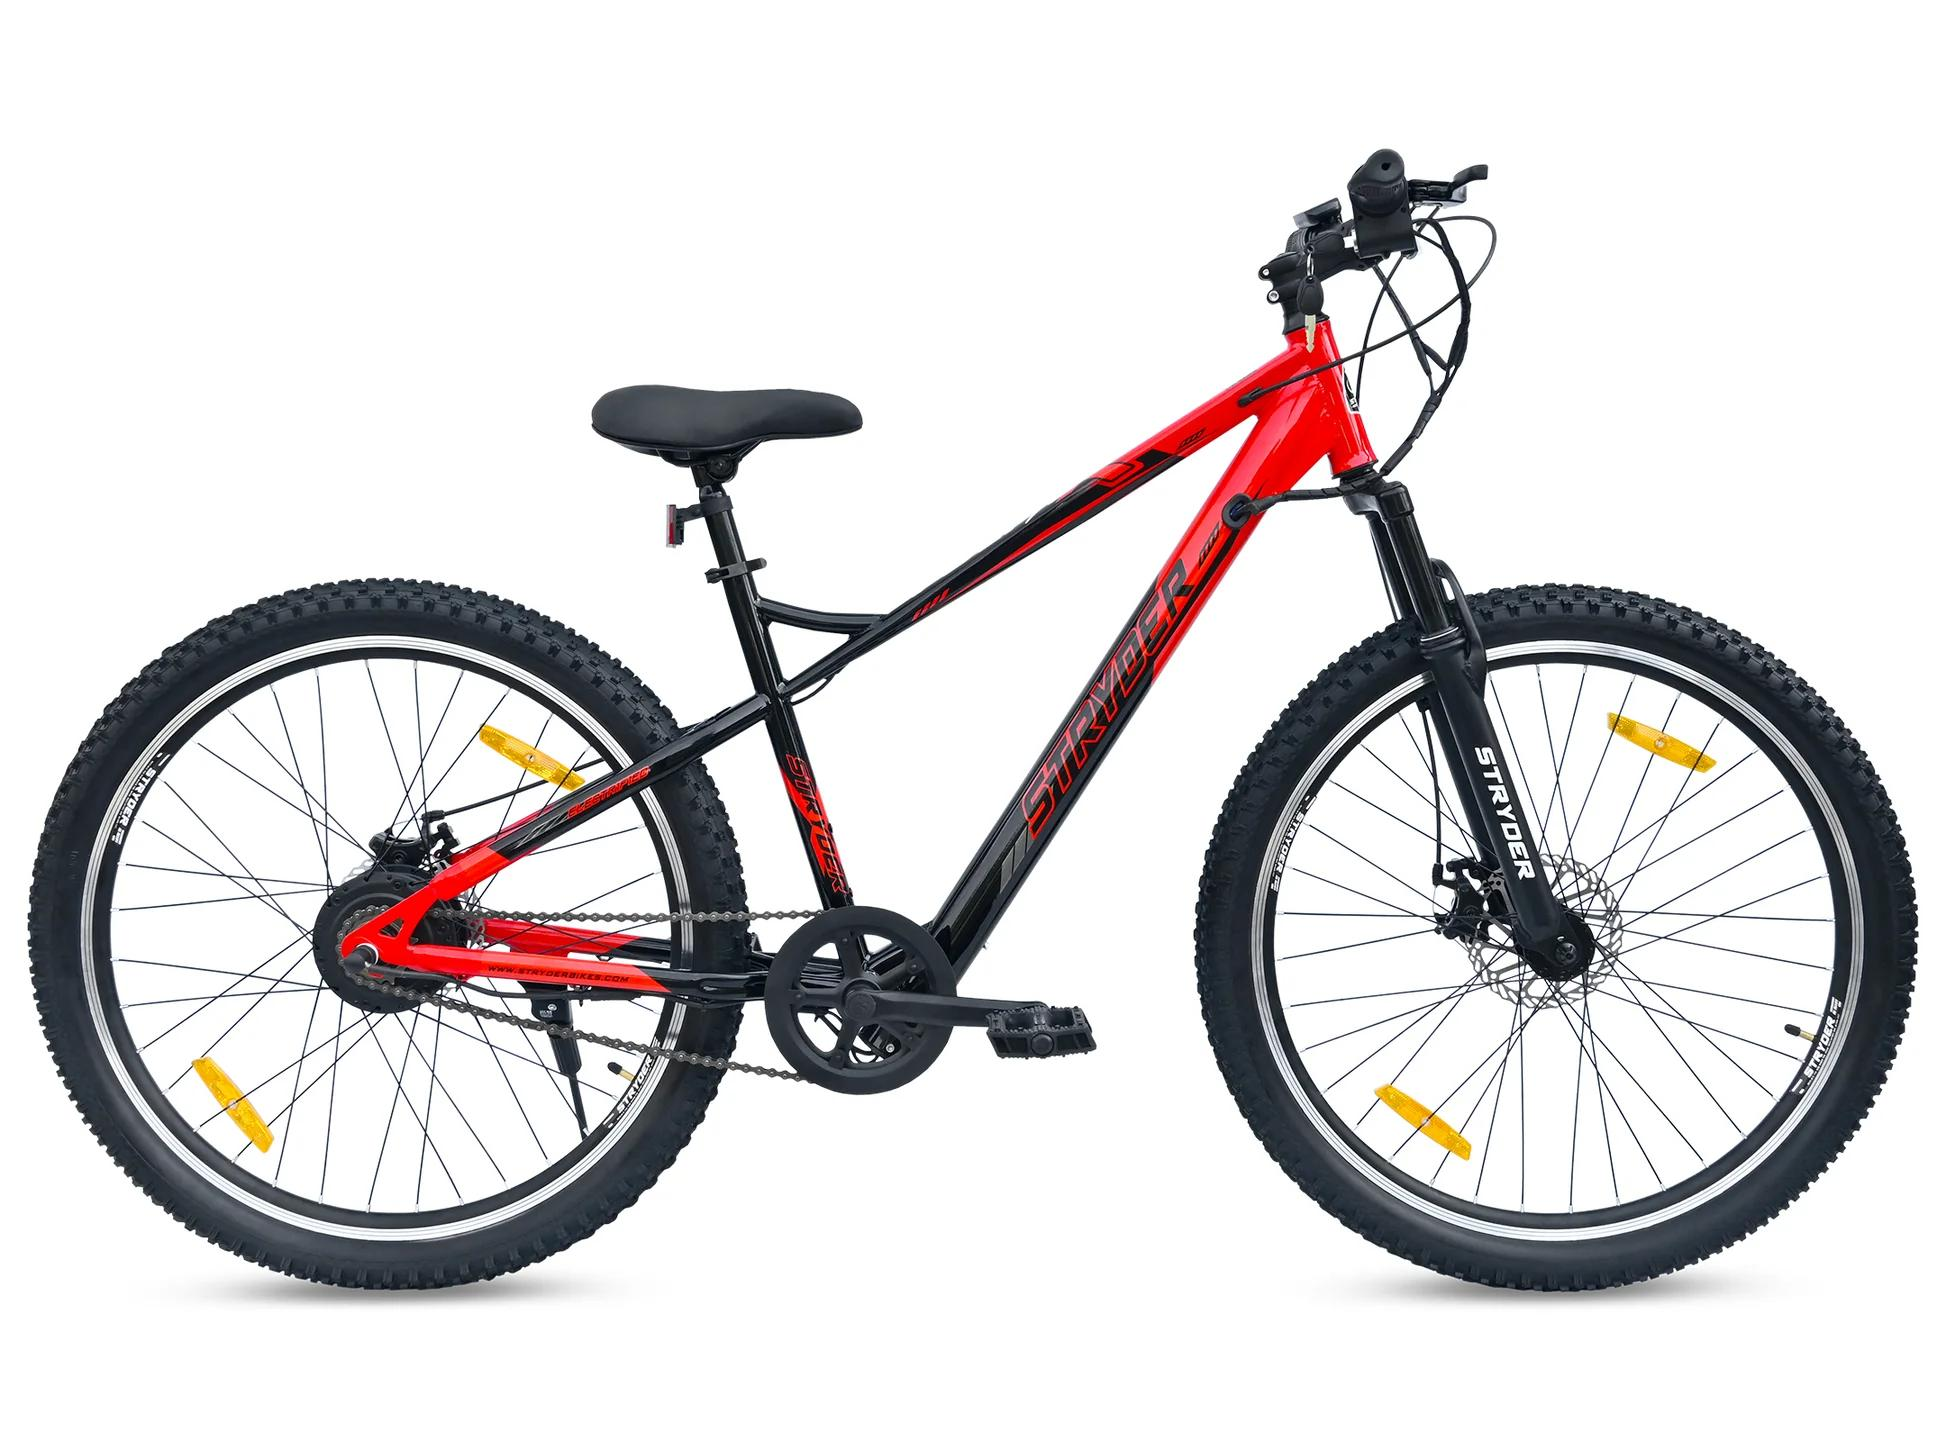bicycle: (20, 104, 1932, 1340)
